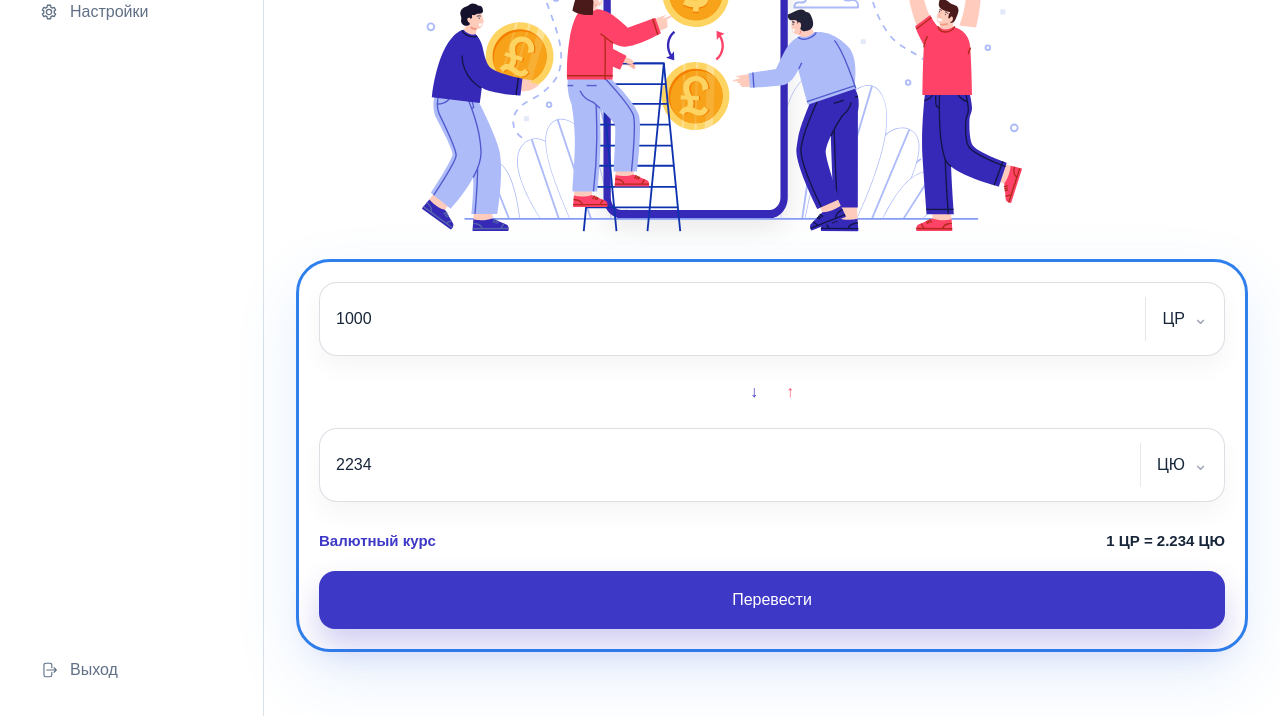
Test: CurrencyExchangePage › shows all currencies in the selector and switches to the chosen country
(page scrolled)
Click the button with aria-label "Открыть список валют получения. Сейчас ЦЮ" at (1182, 465), box [1157,451,1208,478]
(page scrolled)
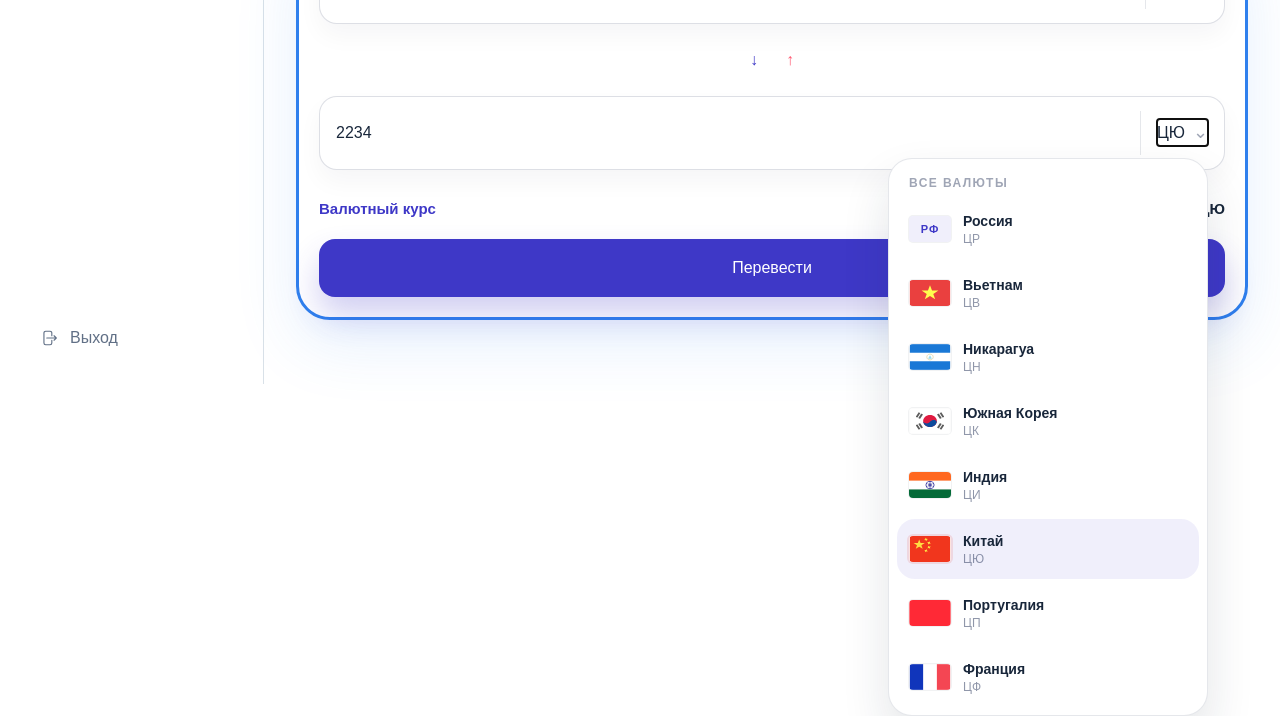
Expected: the button with aria-label "Выбрать валюту Россия ЦР" is shown, [897,199,1199,259]
Expected: the button with aria-label "Выбрать валюту Вьетнам ЦВ" is shown, [897,263,1199,323]
Expected: the button with aria-label "Выбрать валюту Индия ЦИ" is shown
Click the button with aria-label "Выбрать валюту Индия ЦИ" at (930, 485), box [897,455,1199,515]
(page scrolled)
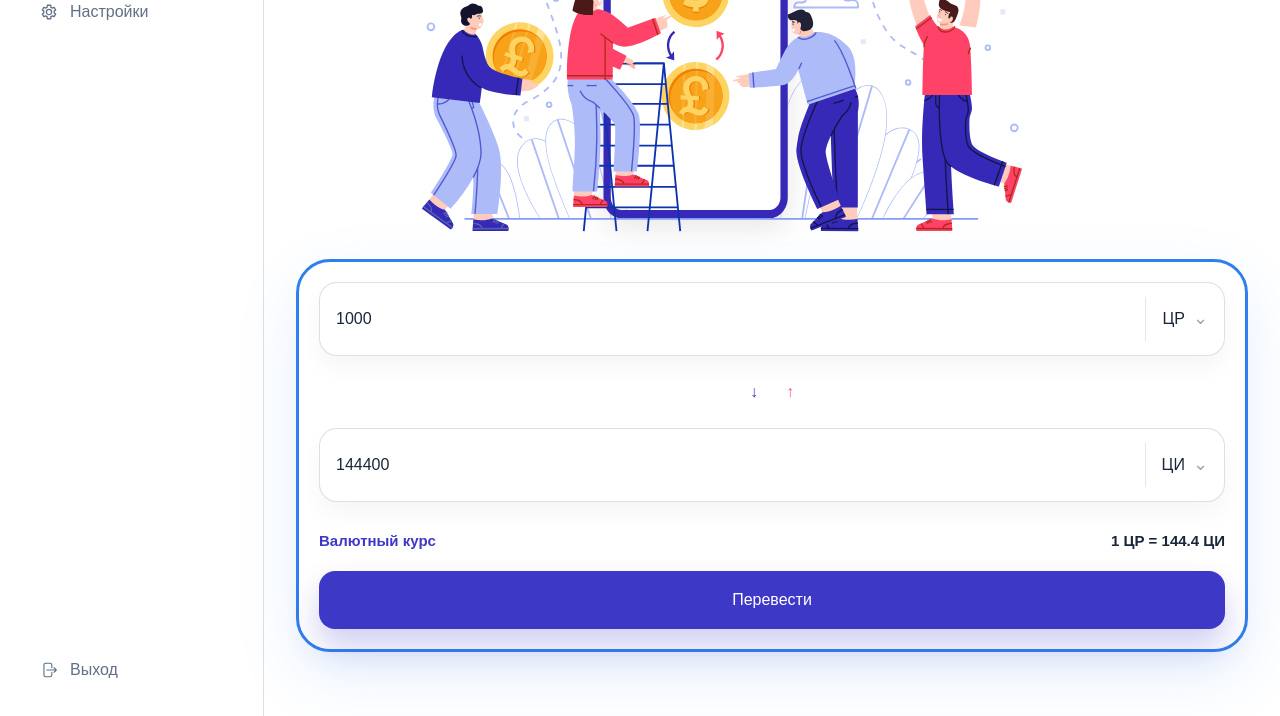
Expected: the field named "Сумма получения в ЦИ" holds "144400", [336,453,1129,477]
Expected: the text "1 ЦР = 144.4 ЦИ" is shown, [1111,530,1225,551]
